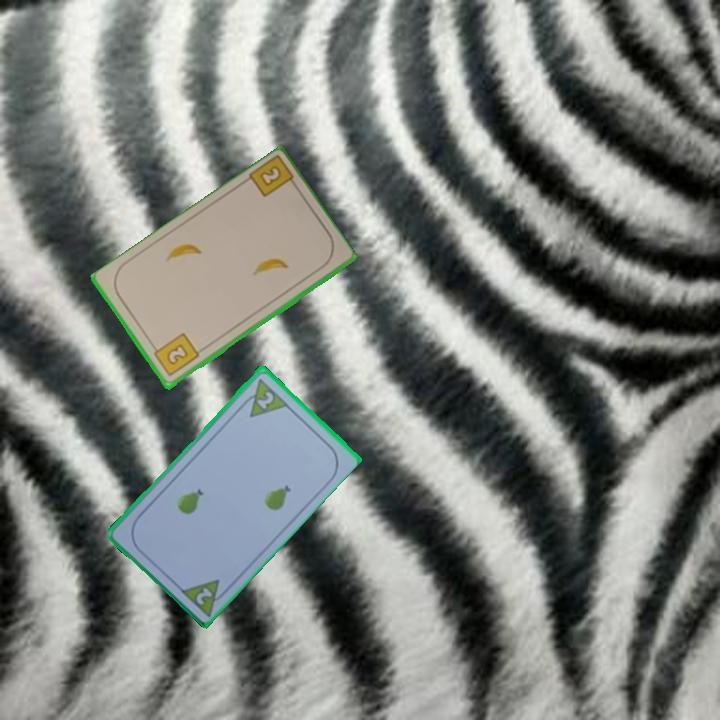2b: (244, 154, 301, 201), (149, 330, 202, 380)
2p: (236, 374, 290, 420), (192, 583, 215, 608)
